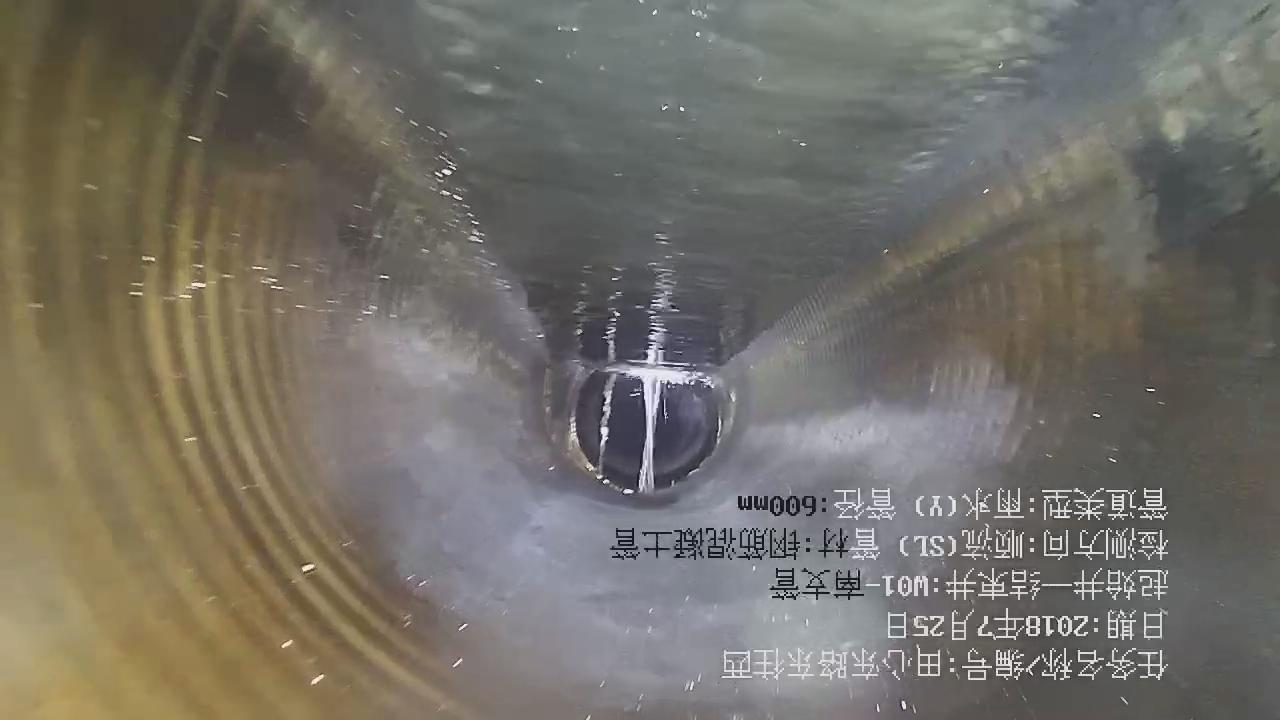SL: (576, 358, 718, 499)
